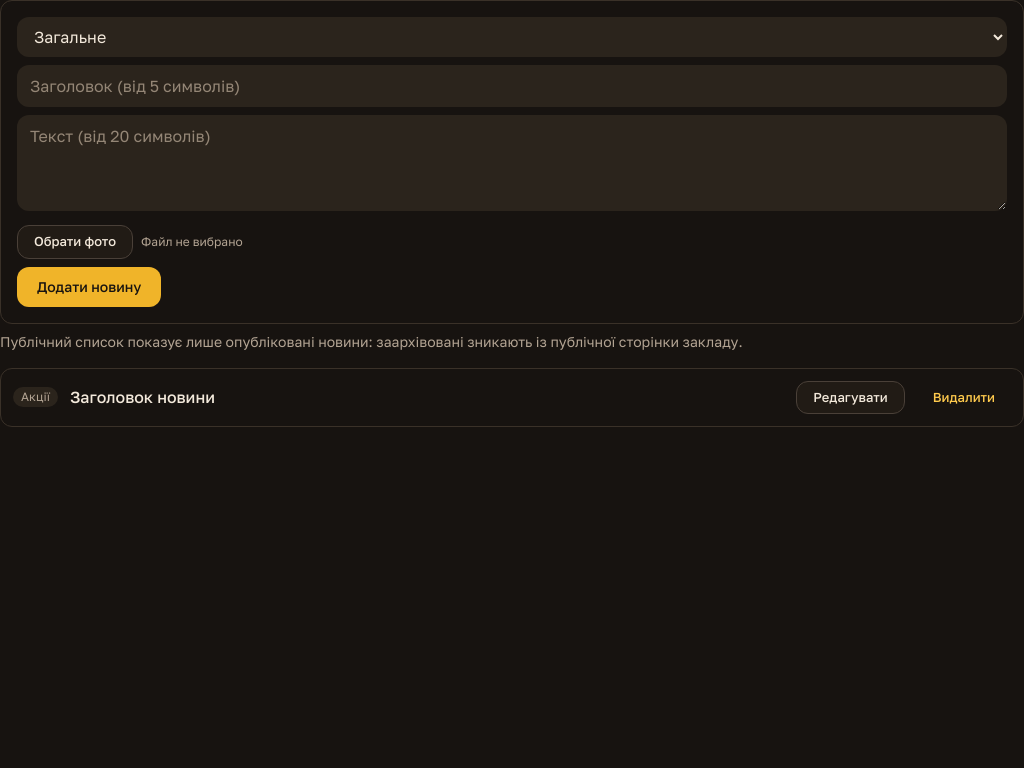
Test: VenueNewsManager › редагування → модалка з префілами → PATCH /news/n1
The width and height of the screenshot is (1024, 768).
Click the button "Редагувати" at (850, 397), box [796,380,905,414]
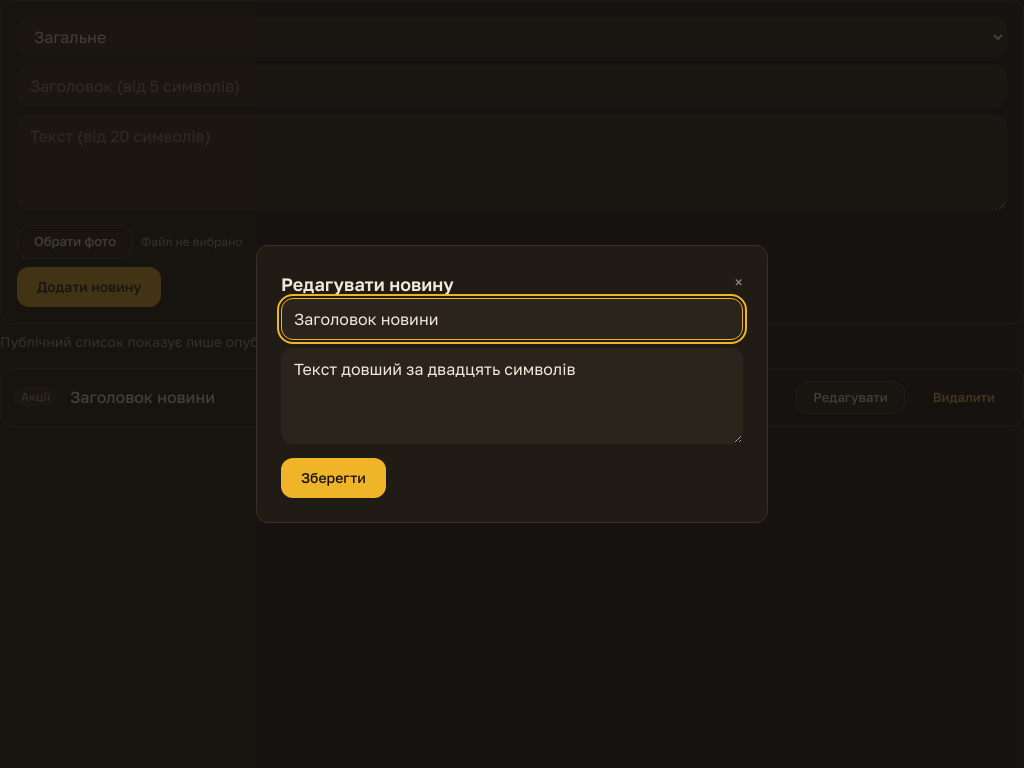
Expected: the field named "Заголовок новини" holds "Заголовок новини", [281,298,743,340]
Expected: the text box named "Текст новини" holds "Текст довший за двадцять символів", [281,348,743,444]
Click the button "Зберегти" at (333, 478), box [281,458,386,498]
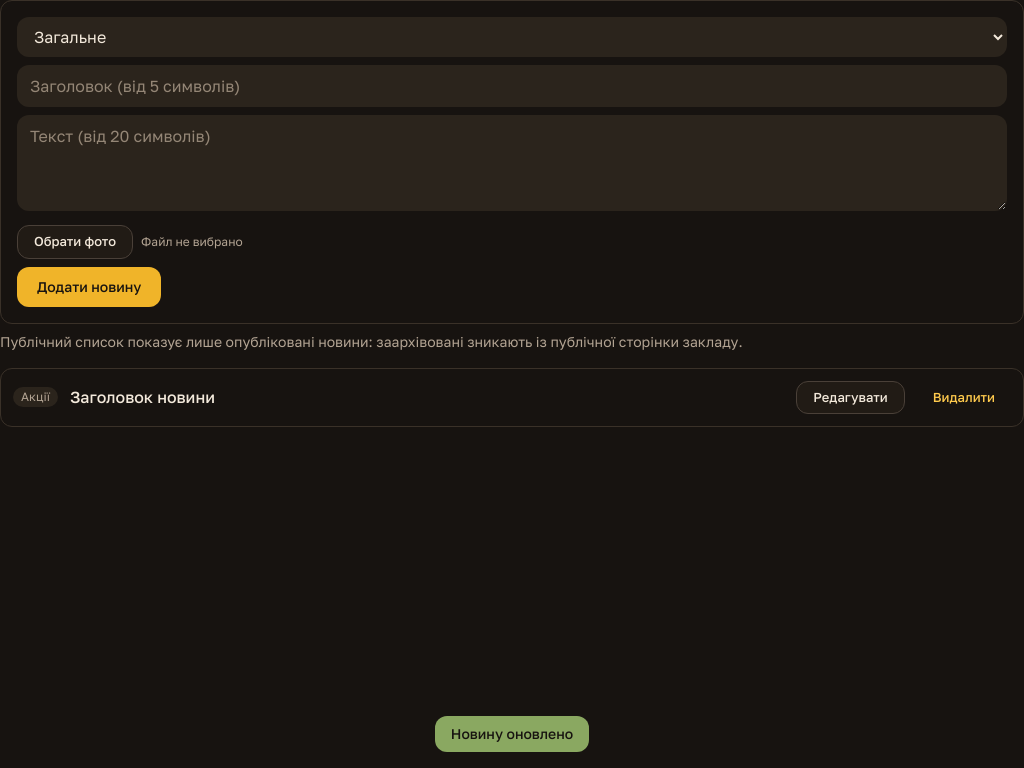
Expected: the message shows "оновлено", [451,725,573,742]
